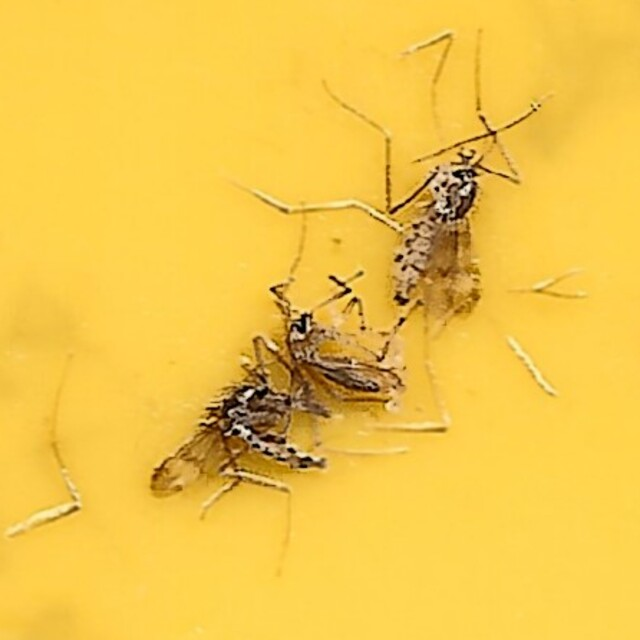Nematocera: (143, 367, 337, 499), (383, 141, 497, 333), (274, 269, 412, 413)
